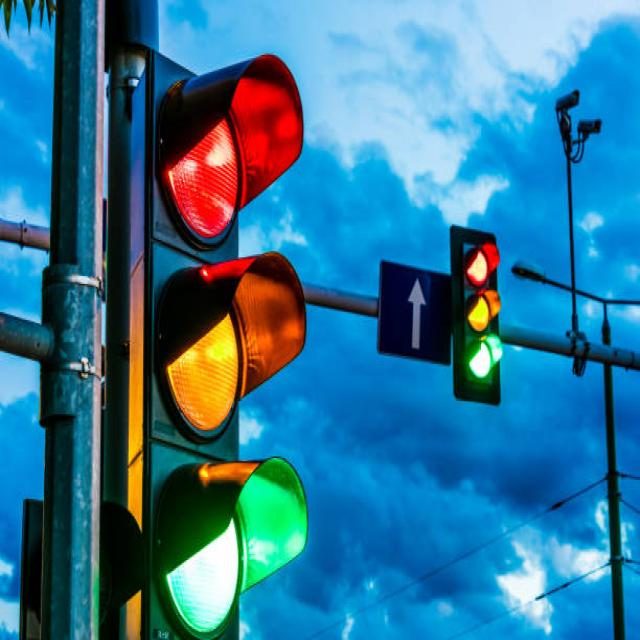Hijau: (163, 471, 240, 640), (469, 339, 490, 378)
Kuning: (164, 267, 240, 433), (468, 292, 490, 330)
Merah: (162, 94, 242, 241), (467, 249, 487, 285)
